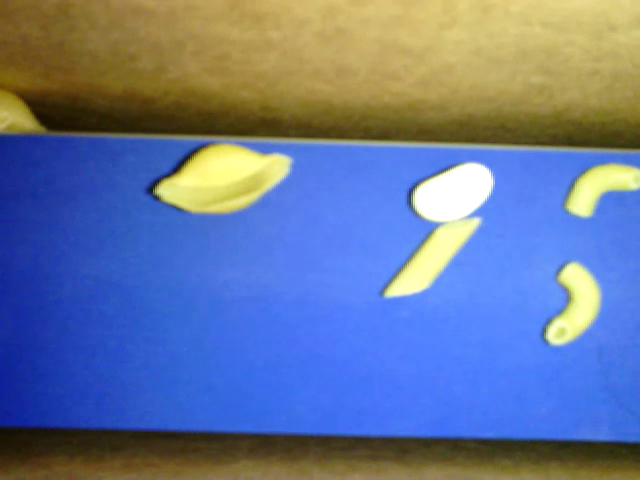elbow: (544, 262, 600, 345), (566, 163, 639, 220)
penne: (379, 214, 482, 300)
shell: (151, 142, 294, 215), (1, 90, 49, 131)
